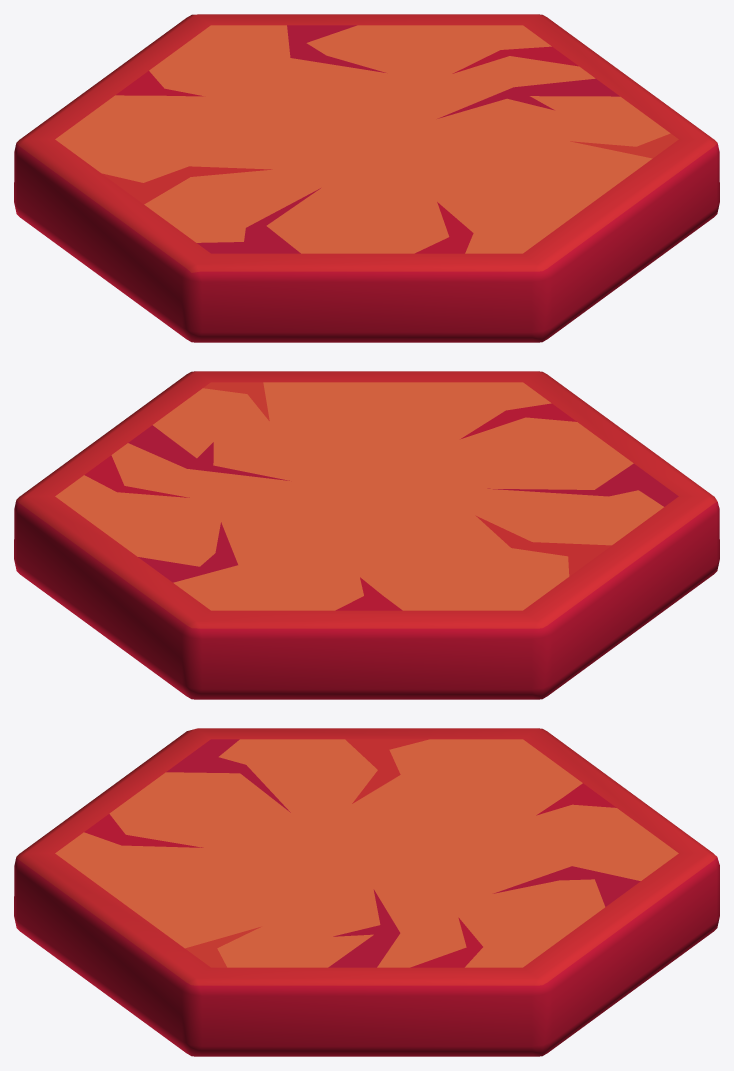
File: Platform red 3.fbx
3 views of the same model, one above another, from view 1: azimuth 30°, elevation 25°; view 2: azimuth 150°, elevation 25°; view 3: azimuth 270°, elevation 25° (orthographic).
Parts seen in each view (by area): view 1: Platform red 3; view 2: Platform red 3; view 3: Platform red 3.
Boxes of the visible parts, bbox=[...] form: Platform red 3: bbox=[14, 14, 719, 342]; Platform red 3: bbox=[14, 371, 719, 699]; Platform red 3: bbox=[14, 728, 719, 1056].
Size of the model in its own units: 625 by 83.5 by 715.
